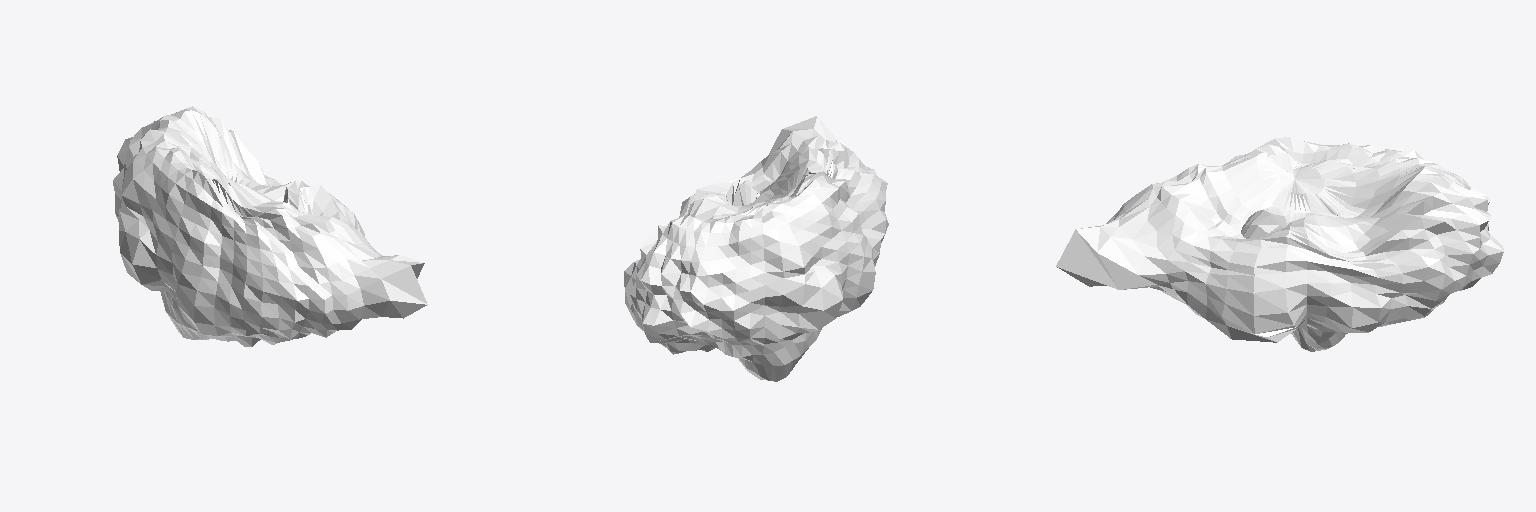
The model's file is clouds.obj.
3 renders of one model, left to right at view 1: azimuth 30°, elevation 25°; view 2: azimuth 150°, elevation 25°; view 3: azimuth 270°, elevation 25°, orthographic.
Visible parts, largest first — view 1: Landscape.11; view 2: Landscape.11; view 3: Landscape.11.
Part boxes in pixels (left/top/right/bottom): Landscape.11: left=113, top=106, right=427, bottom=346; Landscape.11: left=624, top=116, right=888, bottom=381; Landscape.11: left=1056, top=137, right=1503, bottom=351.
Bounding box in the file's own units: 262 × 235 × 510.